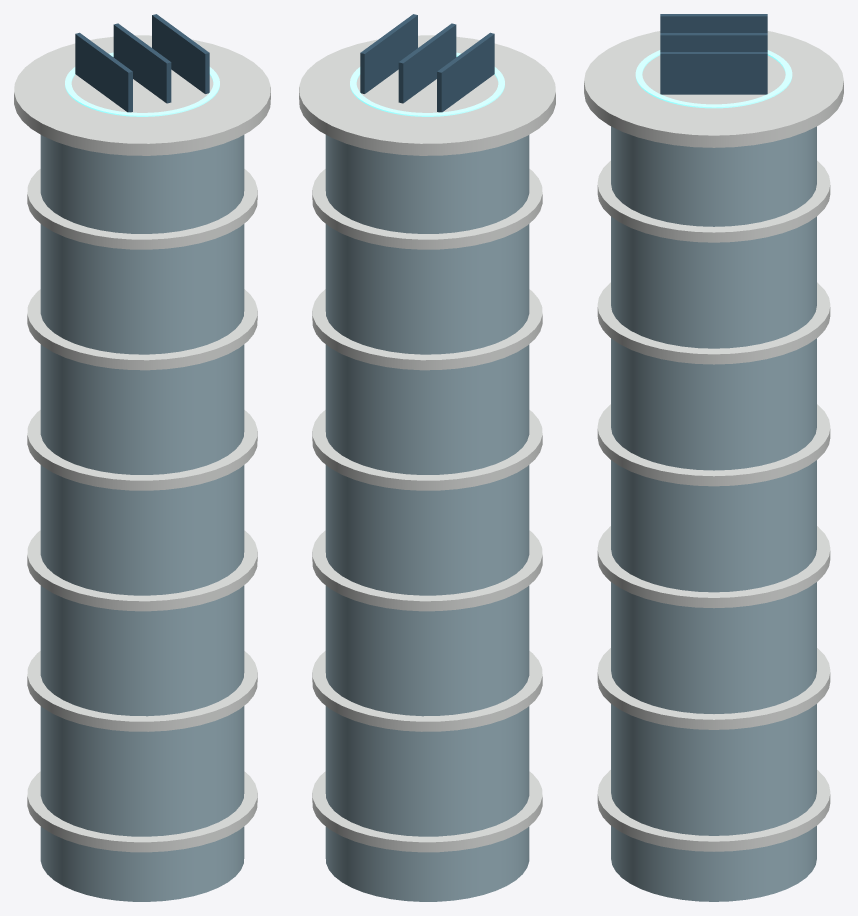
The model's file is automation-hub-upper.glb.
The picture shows the model from 3 angles, left to right: view 1: azimuth 30°, elevation 25°; view 2: azimuth 150°, elevation 25°; view 3: azimuth 270°, elevation 25°; orthographic projection.
Visible parts, largest first — view 1: glass_shaft, trim_crown_disc, trim_floor_01, trim_floor_03, trim_floor_04, trim_floor_06, trim_floor_05, trim_floor_02, solar_fin_01, solar_fin_02, solar_fin_03, future_light_crown; view 2: glass_shaft, trim_crown_disc, trim_floor_01, trim_floor_03, trim_floor_04, trim_floor_06, trim_floor_05, trim_floor_02, solar_fin_01, solar_fin_02, solar_fin_03, future_light_crown; view 3: glass_shaft, trim_crown_disc, trim_floor_06, trim_floor_01, trim_floor_05, trim_floor_02, trim_floor_03, trim_floor_04, solar_fin_03, solar_fin_01, solar_fin_02, future_light_crown.
Part boxes in pixels (x1,y1,x2,y2): glass_shaft: [40, 135, 244, 901]; trim_crown_disc: [14, 35, 270, 155]; trim_floor_01: [27, 771, 257, 852]; trim_floor_03: [27, 530, 257, 611]; trim_floor_04: [27, 410, 257, 490]; trim_floor_06: [27, 169, 257, 249]; trim_floor_05: [27, 289, 257, 370]; trim_floor_02: [27, 651, 257, 731]; solar_fin_01: [75, 32, 132, 112]; solar_fin_02: [113, 23, 171, 103]; solar_fin_03: [152, 14, 209, 93]; future_light_crown: [65, 52, 219, 116]; glass_shaft: [325, 135, 529, 901]; trim_crown_disc: [299, 35, 555, 155]; trim_floor_01: [312, 771, 542, 852]; trim_floor_03: [312, 530, 542, 611]; trim_floor_04: [312, 410, 542, 490]; trim_floor_06: [312, 169, 542, 249]; trim_floor_05: [312, 289, 542, 370]; trim_floor_02: [312, 651, 542, 731]; solar_fin_01: [437, 32, 494, 112]; solar_fin_02: [398, 23, 456, 103]; solar_fin_03: [360, 14, 417, 93]; future_light_crown: [350, 52, 504, 116]; glass_shaft: [611, 126, 816, 901]; trim_crown_disc: [584, 31, 843, 147]; trim_floor_06: [597, 160, 830, 242]; trim_floor_01: [597, 770, 830, 851]; trim_floor_05: [597, 282, 830, 364]; trim_floor_02: [597, 648, 830, 729]; trim_floor_03: [597, 526, 830, 608]; trim_floor_04: [597, 404, 830, 486]; solar_fin_03: [660, 52, 767, 94]; solar_fin_01: [660, 14, 767, 32]; solar_fin_02: [660, 33, 767, 51]; future_light_crown: [635, 50, 792, 108].
Bounding box in the file's own units: 5.8 × 20.3 × 5.8.
